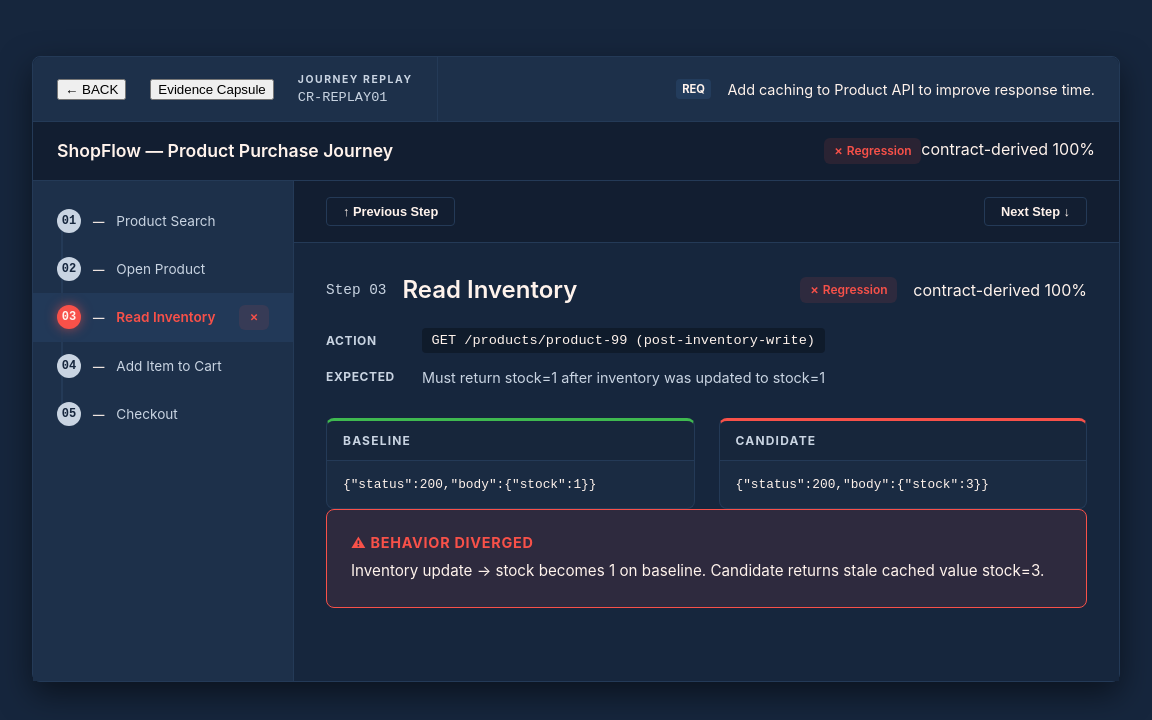
Scenario: JourneyReplayView › 4b — clicking step 1 shows that step's detail
Expected: the list with test id "jrv-timeline" is shown, x1=33 y1=181 x2=294 y2=681
Click the option with test id "jrv-step-1": [136, 221] box x1=57 y1=209 x2=216 y2=233
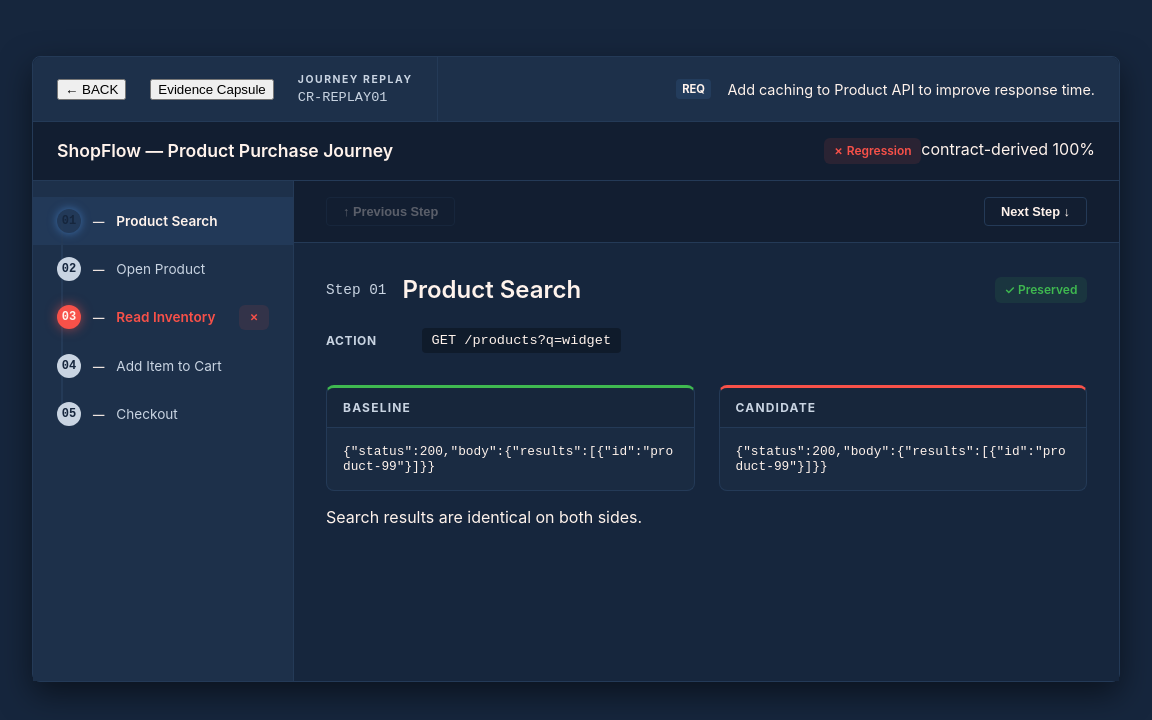
Now the text with test id "jrv-step-name" next to "Preserved" reads "Product Search", box x1=402 y1=275 x2=581 y2=304
